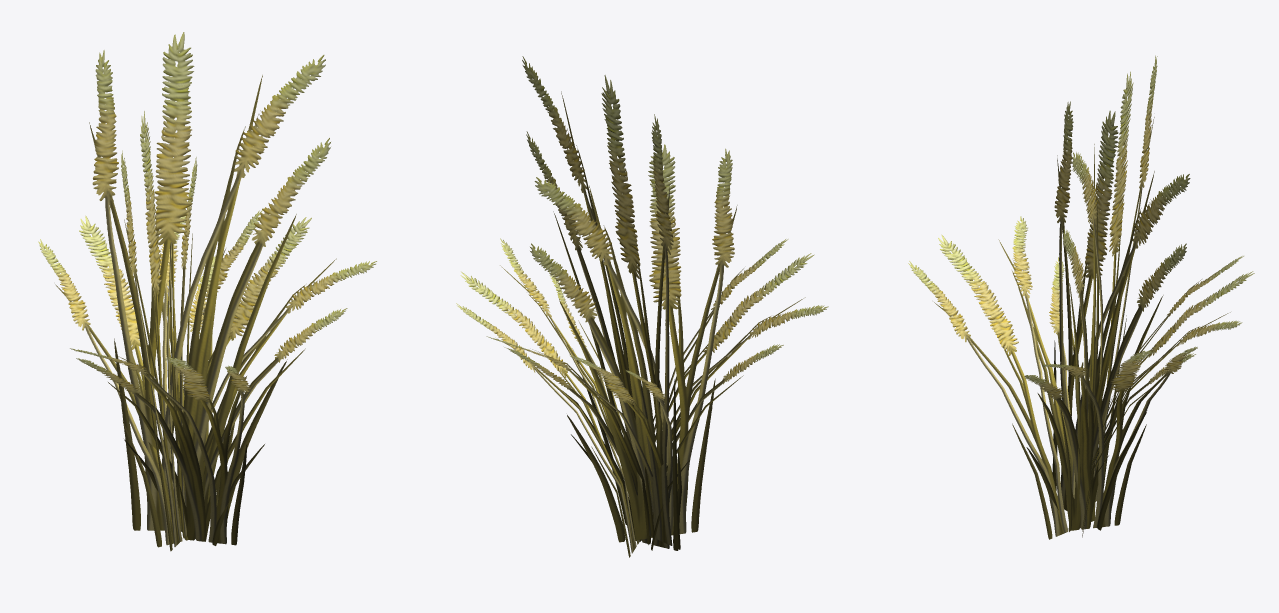
File: PlantReed.obj
3 views of the same model, side by side, from view 1: azimuth 30°, elevation 25°; view 2: azimuth 150°, elevation 25°; view 3: azimuth 270°, elevation 25° (orthographic). The views are drawn at different scales.
Parts seen in each view (by area): view 1: Mesh; view 2: Mesh; view 3: Mesh.
Boxes of the visible parts, x1,y1,x2,y2 form: Mesh: (38,32,376,551); Mesh: (456,56,828,557); Mesh: (908,55,1254,539).
Bounding box in the file's own units: 1.76 × 2.47 × 1.68.
